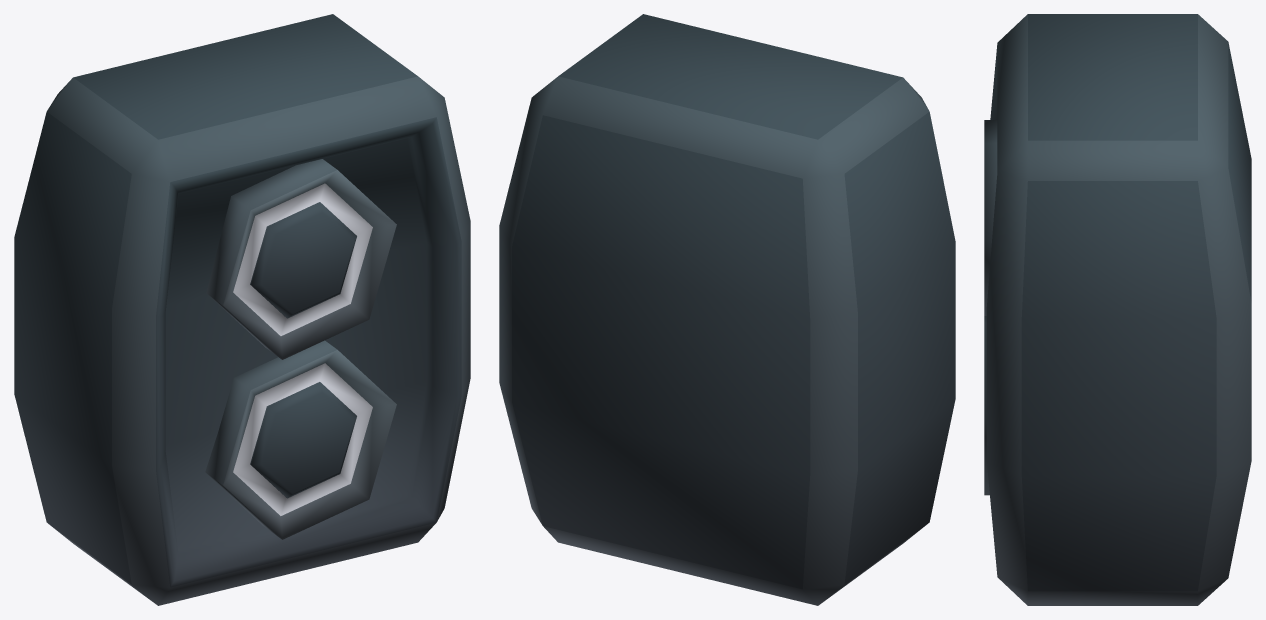
The model's file is music.fbx.
3 renders of one model, left to right at view 1: azimuth 30°, elevation 25°; view 2: azimuth 150°, elevation 25°; view 3: azimuth 270°, elevation 25°, orthographic.
Parts seen in each view (by area): view 1: Cube.013; view 2: Cube.013; view 3: Cube.013.
Part boxes in pixels (left/top/right/bottom): Cube.013: left=14, top=14, right=470, bottom=605; Cube.013: left=499, top=14, right=955, bottom=605; Cube.013: left=984, top=14, right=1251, bottom=605.
Size of the model in its own units: 130 by 162 by 84.22.
